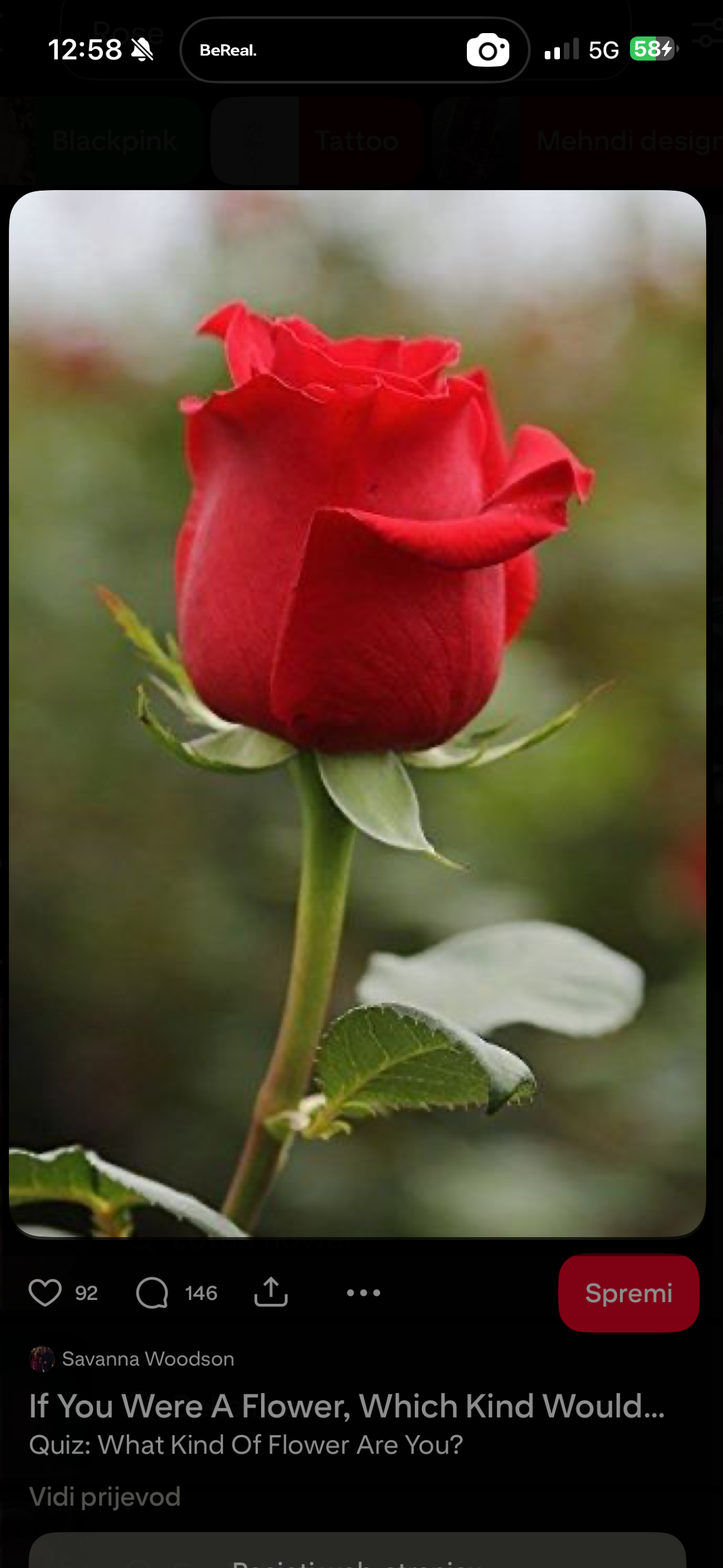rose: (164, 292, 599, 758)
